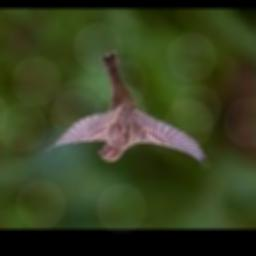Sparrow: (41, 51, 210, 170)
